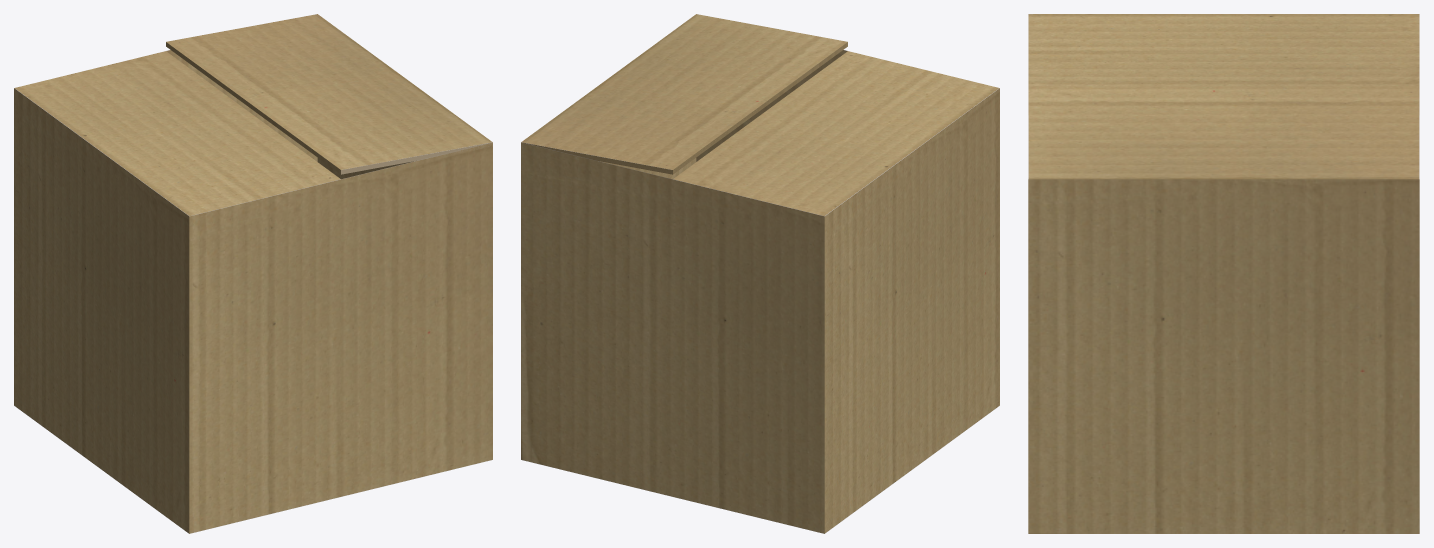
Rendered from cardboardBox.fbx.
3 views of the same model, side by side, from view 1: azimuth 30°, elevation 25°; view 2: azimuth 150°, elevation 25°; view 3: azimuth 270°, elevation 25° (orthographic). The views are drawn at different scales.
Visible parts, largest first — view 1: Cube; view 2: Cube; view 3: Cube.
Part boxes in pixels (<box>): Cube: <box>14,14,492,533</box>; Cube: <box>521,14,999,533</box>; Cube: <box>1028,14,1419,533</box>.
Size of the model in its own units: 200 by 206 by 200.
